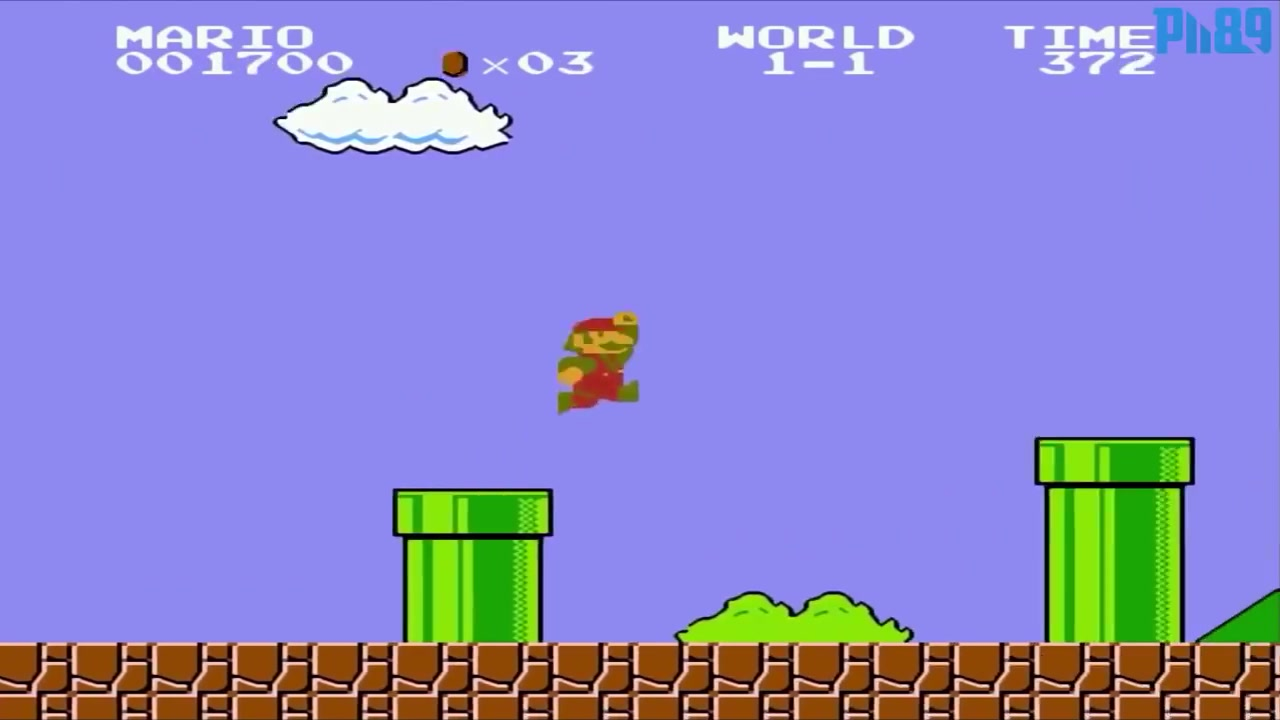mario: (547, 301, 654, 424)
